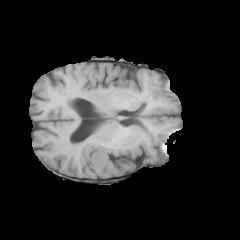glioma: (81, 138, 135, 172)
